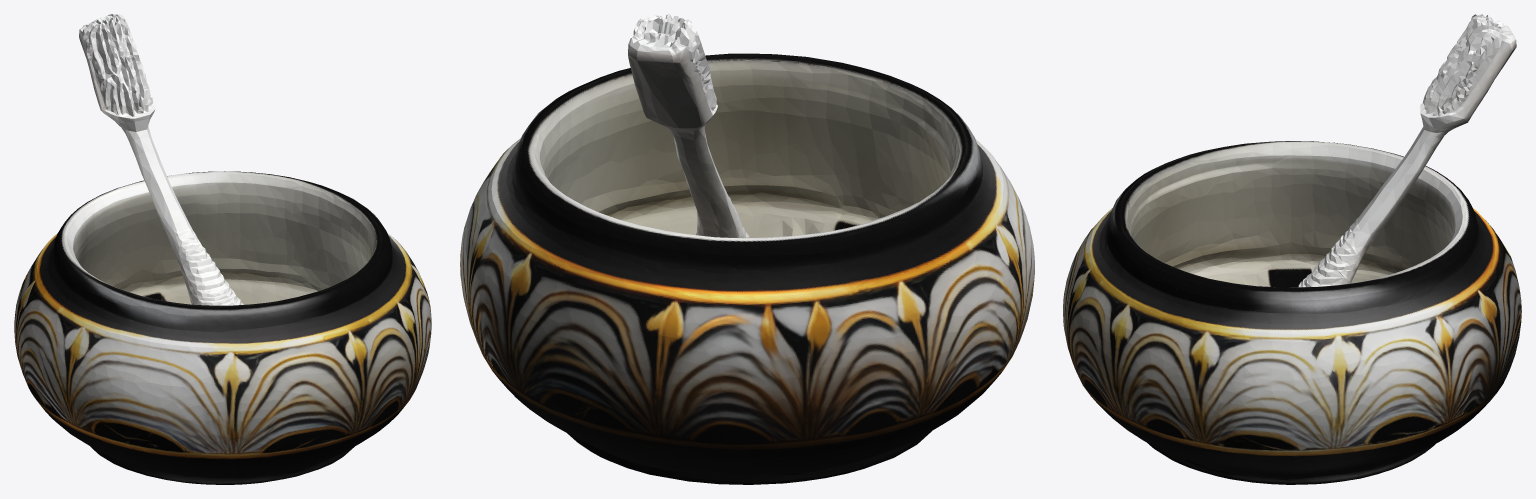
The model's file is ceramic-toothbrush-holder-art-deco.jpeg.glb.
3 renders of one model, left to right at view 1: azimuth 30°, elevation 25°; view 2: azimuth 150°, elevation 25°; view 3: azimuth 270°, elevation 25°, orthographic. The views are drawn at different scales.
Parts seen in each view (by area): view 1: world; view 2: world; view 3: world.
Part boxes in pixels (bbox=[...]): world: bbox=[14, 14, 431, 484]; world: bbox=[460, 14, 1034, 484]; world: bbox=[1063, 14, 1521, 484].
Bounding box in the file's own units: 0.9973 × 0.9245 × 0.9966.
1 material, 1 textured.
